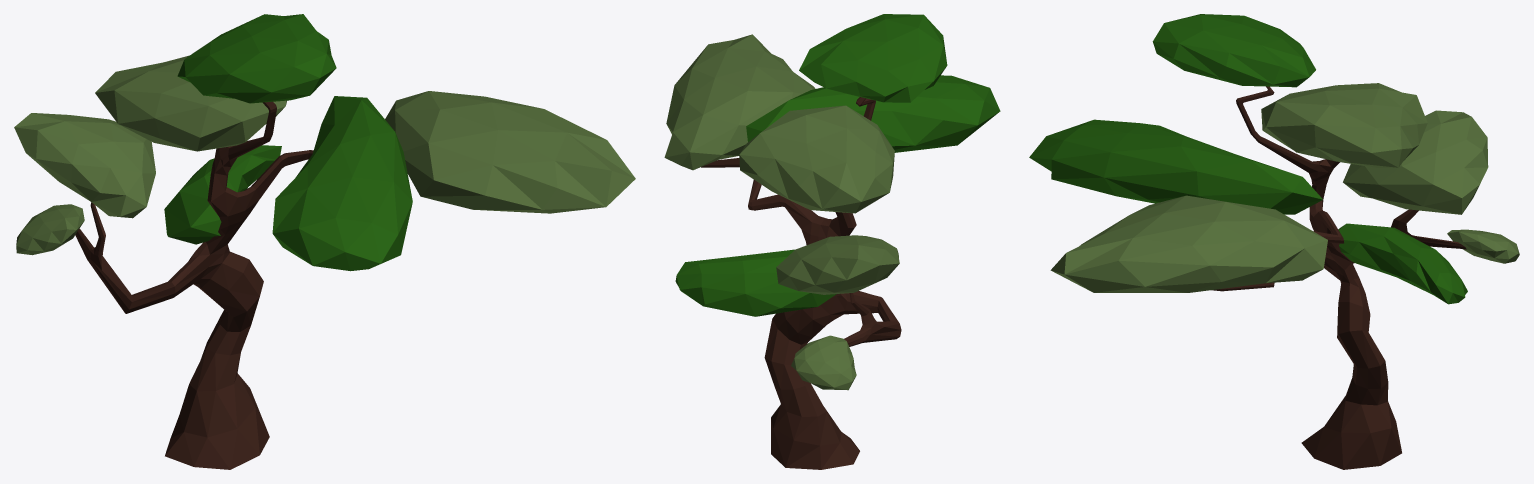
The model's file is Tree_5 Asia.fbx.
3 renders of one model, left to right at view 1: azimuth 30°, elevation 25°; view 2: azimuth 150°, elevation 25°; view 3: azimuth 270°, elevation 25°, orthographic. The views are drawn at different scales.
Visible parts, largest first — view 1: Tree_5; view 2: Tree_5; view 3: Tree_5.
Part boxes in pixels (x1,y1,x2,y2): Tree_5: [14, 14, 635, 469]; Tree_5: [664, 14, 1000, 469]; Tree_5: [1029, 14, 1519, 469].
Size of the model in its own units: 3.97 by 4.32 by 4.59.
